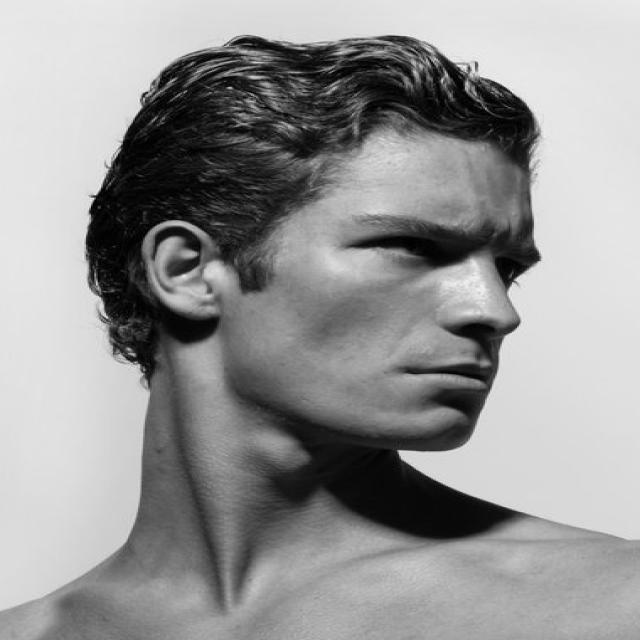front: (316, 199, 566, 449)
